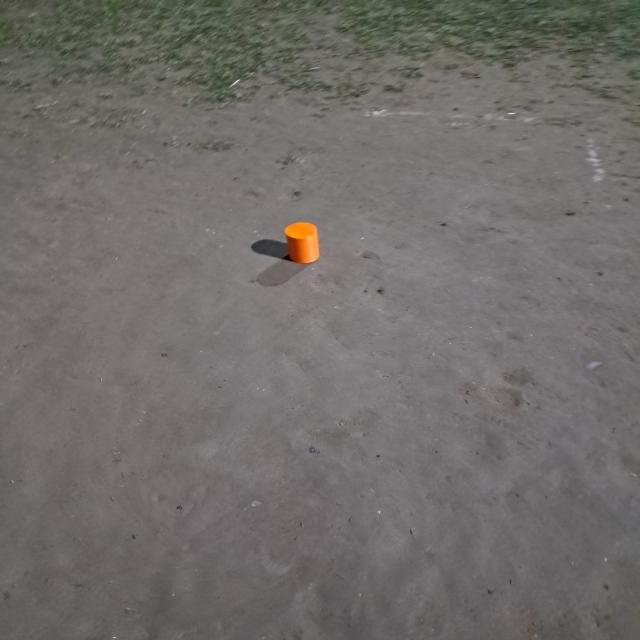Cylinder: (283, 221, 320, 264)
